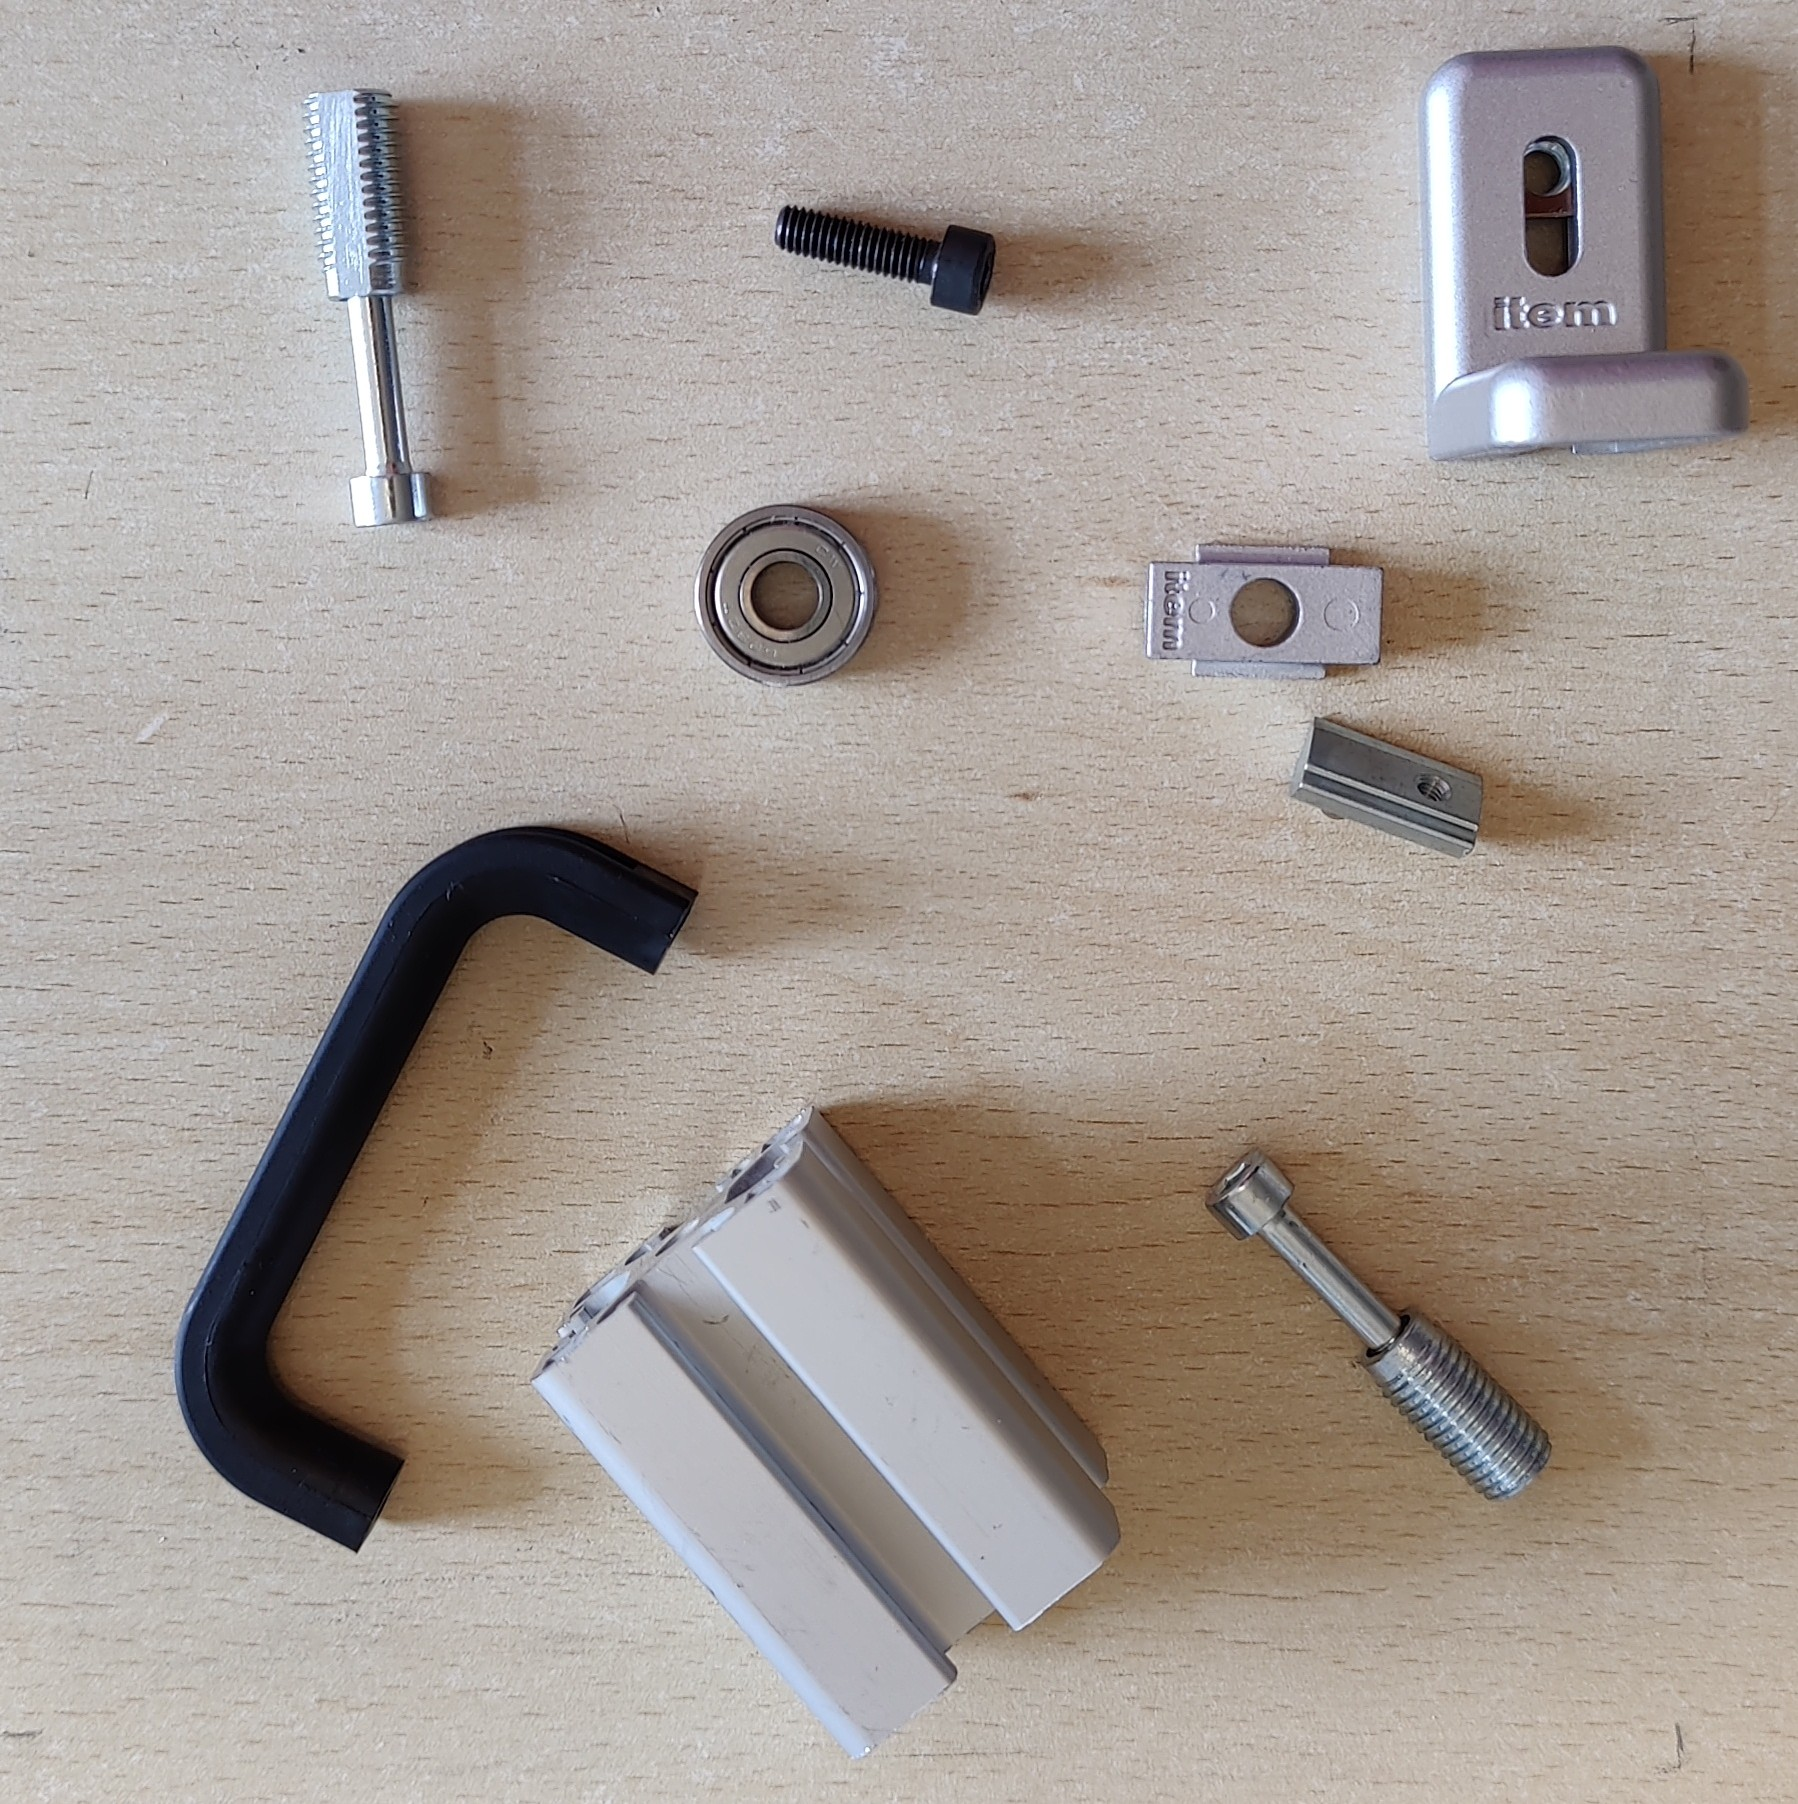Aluminium Extension: (529, 1100, 1126, 1764)
Ball Bearing: (690, 500, 883, 690)
Multiwinkel: (1414, 40, 1750, 464)
Pull Handle: (170, 820, 701, 1557)
Shoulder Socket Head Cap Screw: (1200, 1144, 1554, 1506), (300, 82, 436, 533)
Socket Head Cap Screw: (771, 201, 998, 318)
T Nut Square: (1143, 538, 1388, 681)
T Spring Nut: (1284, 714, 1488, 859)
